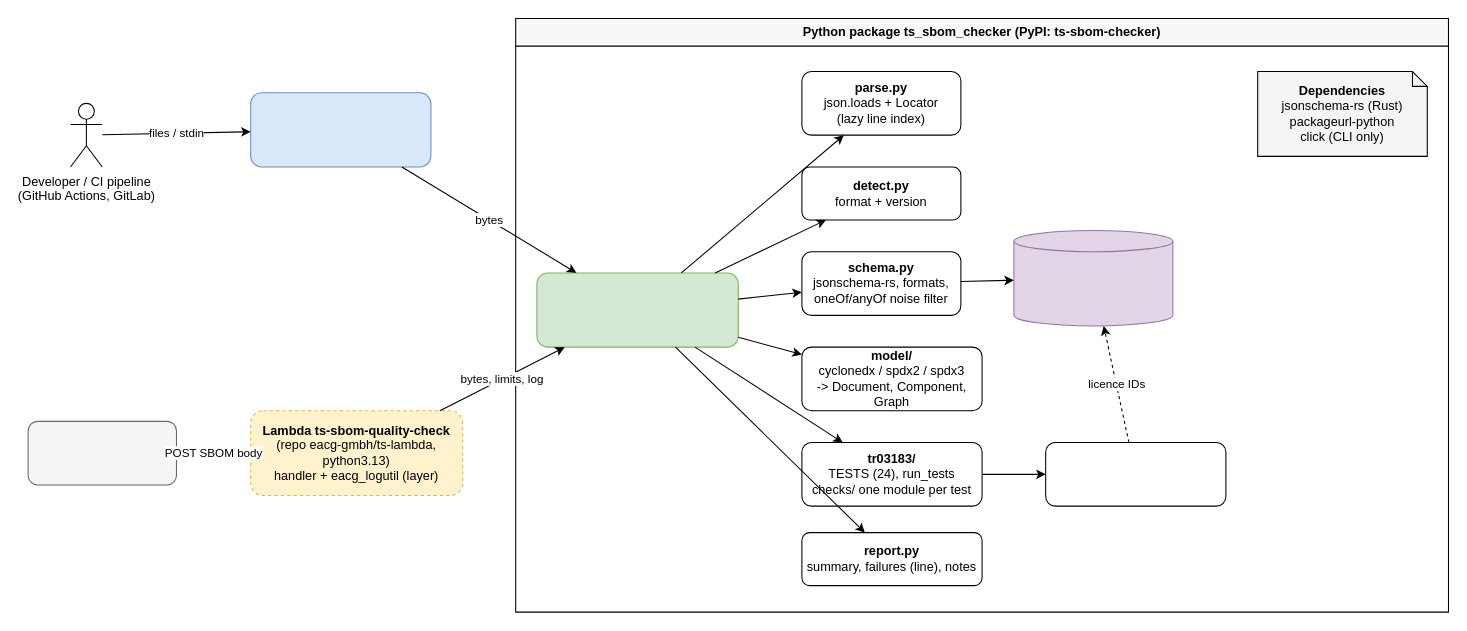
This 1467x631 diagram has some shape labels left out. Each missing label, with the centre of its shape:
"check.py check_sbom() -> (status, report) preload(), log.step()" goes at [637,309].
"cli.py ts-sbom-checker FILE... text / JSON, exit 0/1/2" goes at [340,129].
"schemas/ CycloneDX 1.5/1.6/1.7 SPDX 2.2/2.3/3.0.1 (official, unmodified)" goes at [1093,277].
"syntax.py URI, email, purl, CPE, SPDX licence expressions" goes at [1135,473].
"ts-app / API Gateway (SigV4, Function URL)" goes at [101,452].
